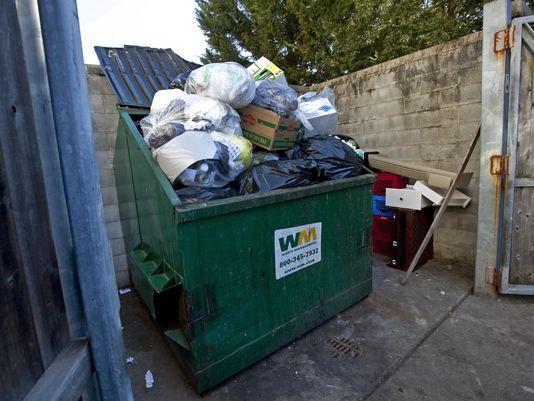Dumpster: (92, 40, 386, 394)
